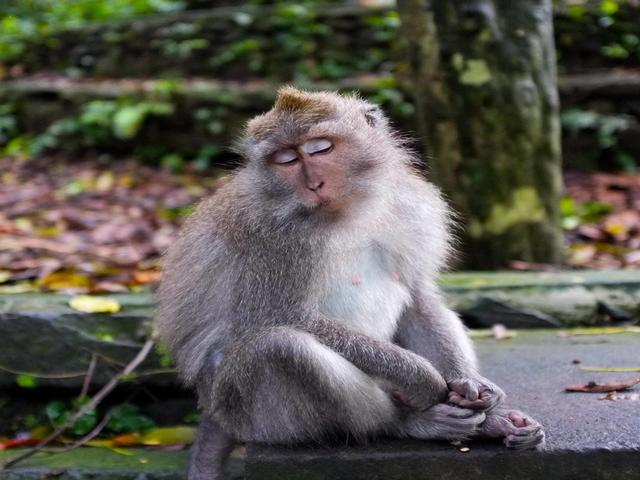monkey: (106, 56, 574, 464)
